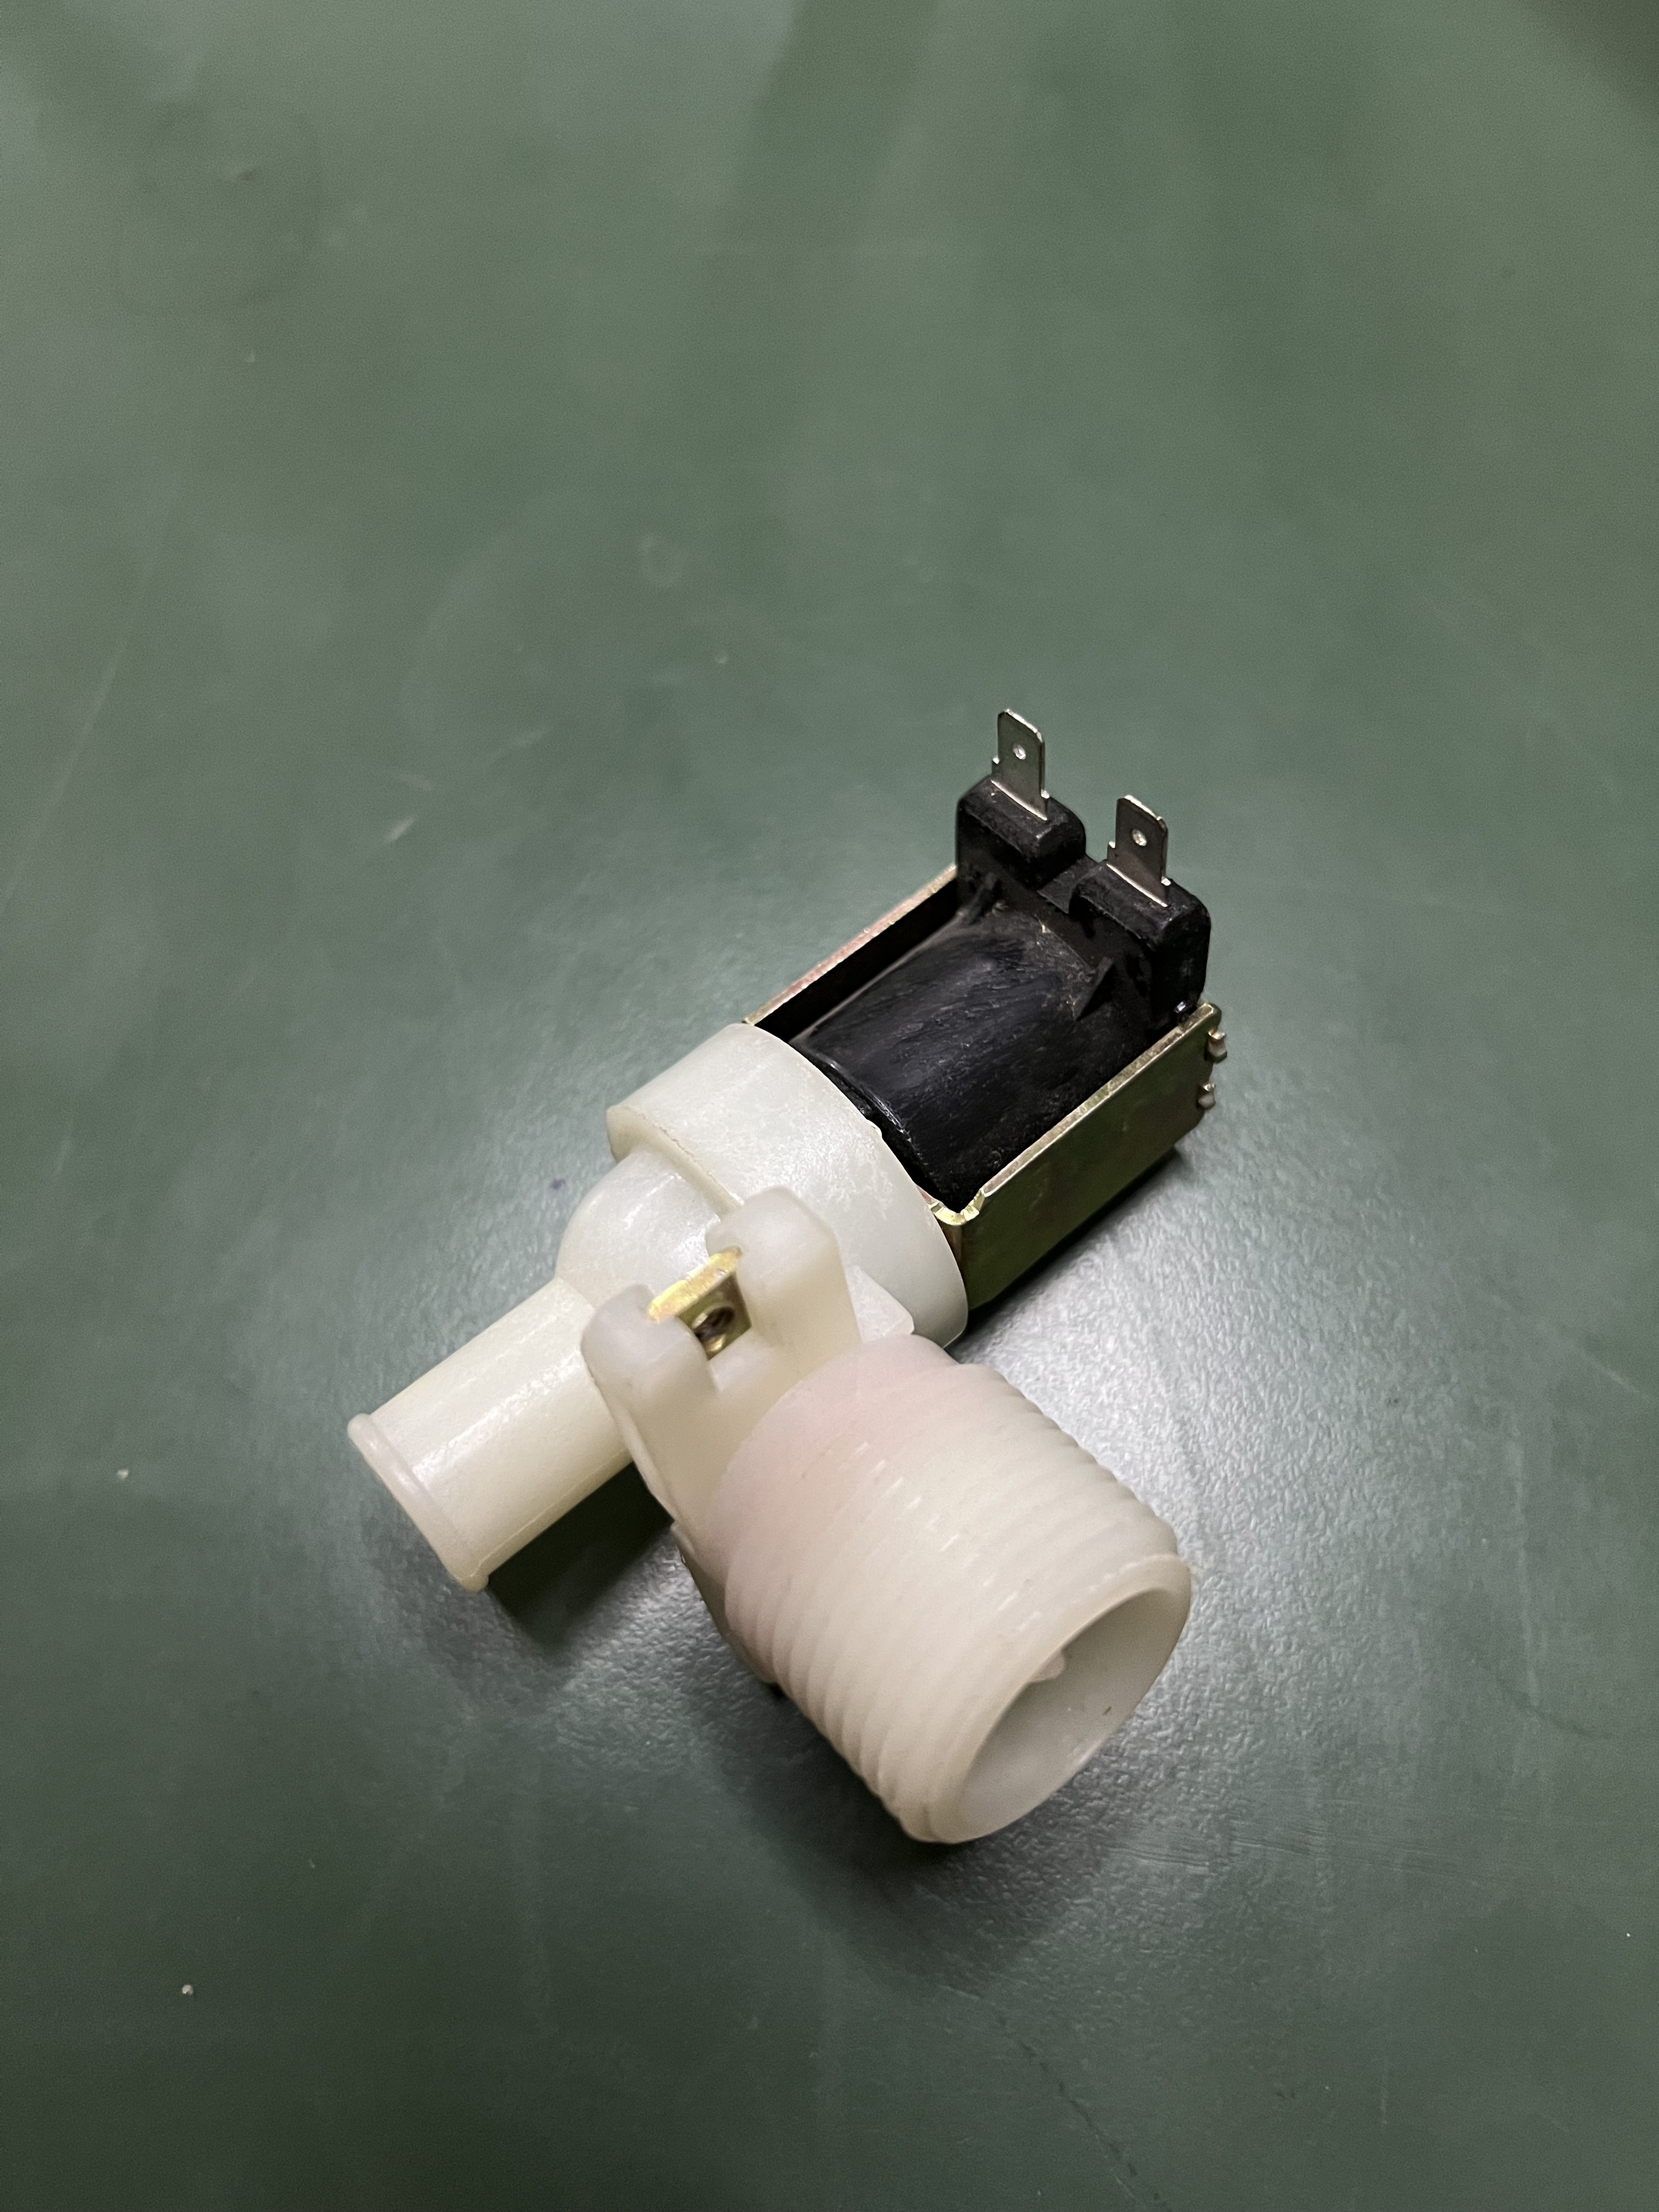godrej_inlet_valves: (312, 669, 1310, 1858)
